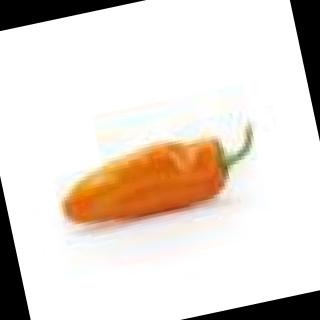Wortel: (38, 104, 283, 261)
